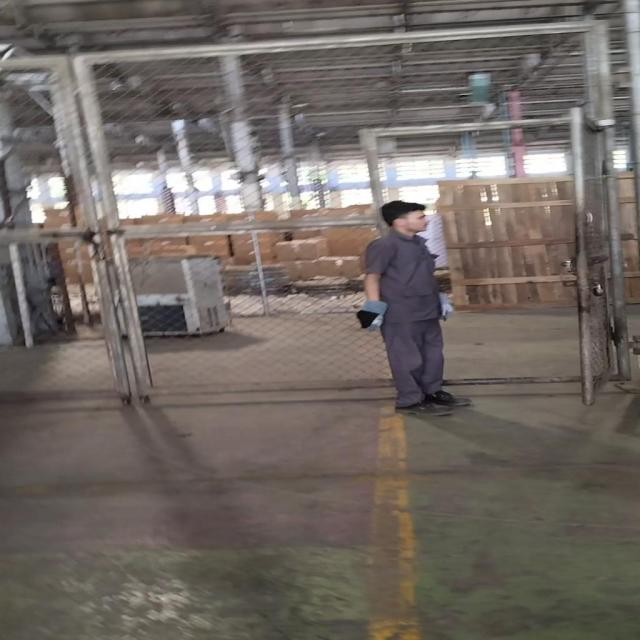Gloves-Detection: (356, 293, 381, 334), (430, 291, 452, 321)
